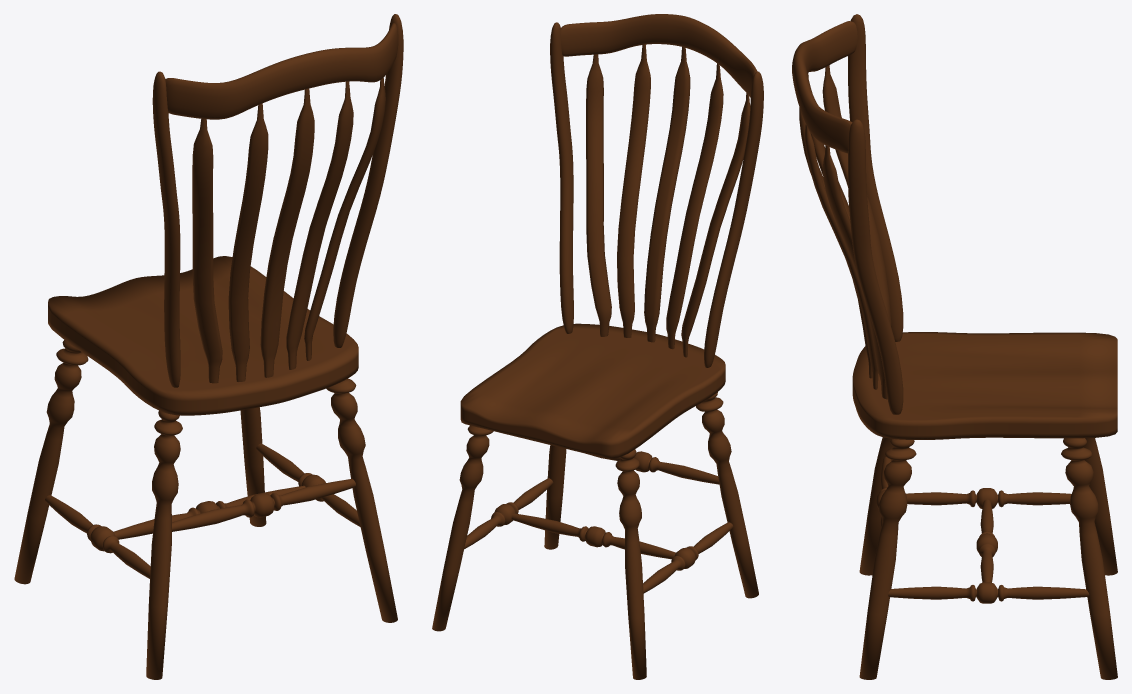
File: oak_chair.obj
The picture shows the model from 3 angles, left to right: view 1: azimuth 30°, elevation 25°; view 2: azimuth 150°, elevation 25°; view 3: azimuth 270°, elevation 25°; orthographic projection. The views are drawn at different scales.
Visible parts, largest first — view 1: oak_chair_Plane; view 2: oak_chair_Plane; view 3: oak_chair_Plane.
Boxes of the visible parts, x1=… form: oak_chair_Plane: x1=14, y1=14, x2=403, y2=679; oak_chair_Plane: x1=432, y1=14, x2=763, y2=679; oak_chair_Plane: x1=792, y1=14, x2=1117, y2=679.
Size of the model in its own units: 0.8607 by 2.06 by 1.07.
